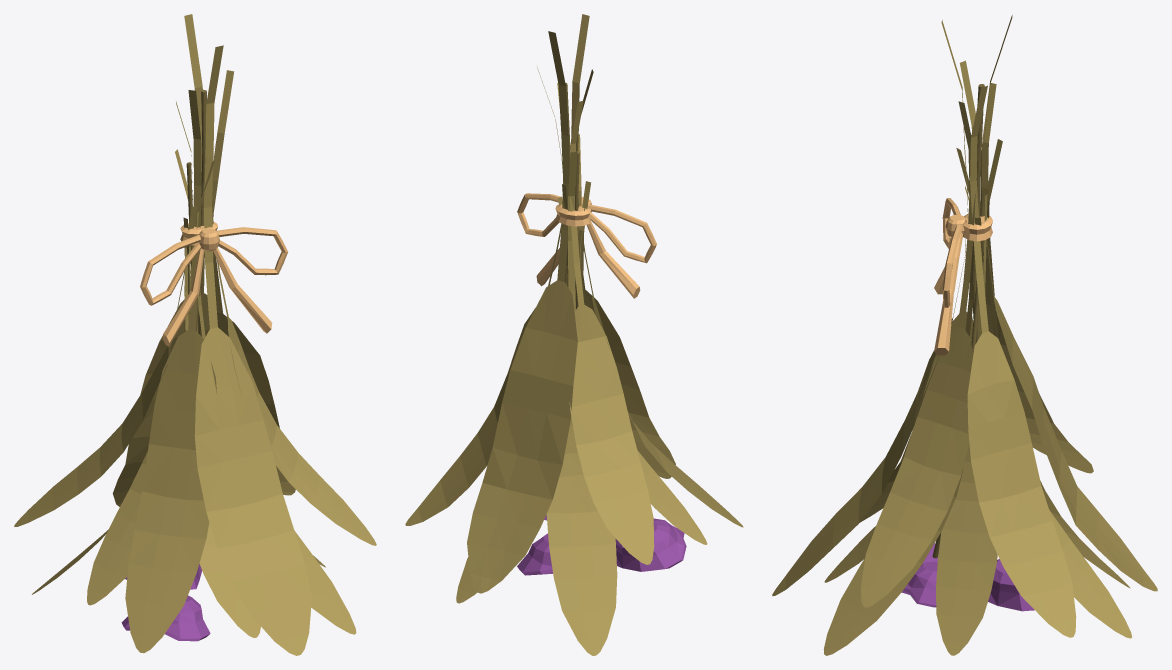
Rendered from SFHW_Dried_Herbs_006.fbx.
The picture shows the model from 3 angles, left to right: view 1: azimuth 30°, elevation 25°; view 2: azimuth 150°, elevation 25°; view 3: azimuth 270°, elevation 25°; orthographic projection. The views are drawn at different scales.
Visible parts, largest first — view 1: SFHW_Dried_Herbs_006; view 2: SFHW_Dried_Herbs_006; view 3: SFHW_Dried_Herbs_006.
Boxes of the visible parts, bbox=[...] form: SFHW_Dried_Herbs_006: bbox=[14, 14, 376, 655]; SFHW_Dried_Herbs_006: bbox=[405, 14, 743, 655]; SFHW_Dried_Herbs_006: bbox=[772, 15, 1157, 655].
Size of the model in its own units: 16.95 by 36.16 by 20.29.
